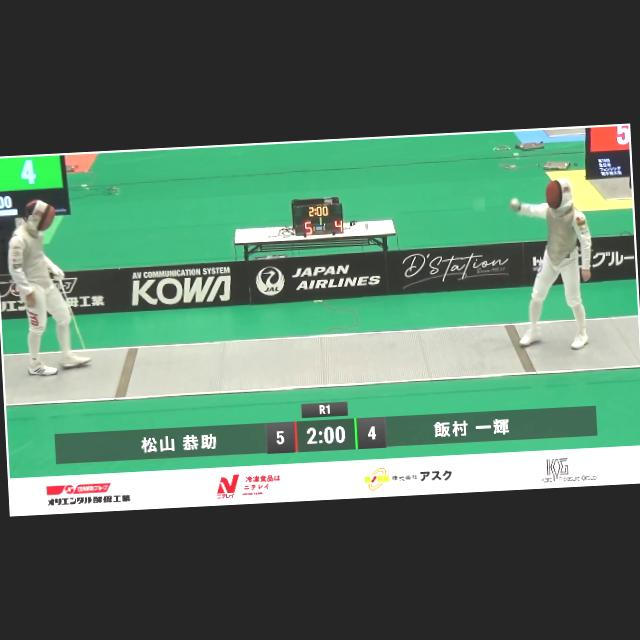blade: (46, 270, 99, 364), (468, 194, 526, 218)
